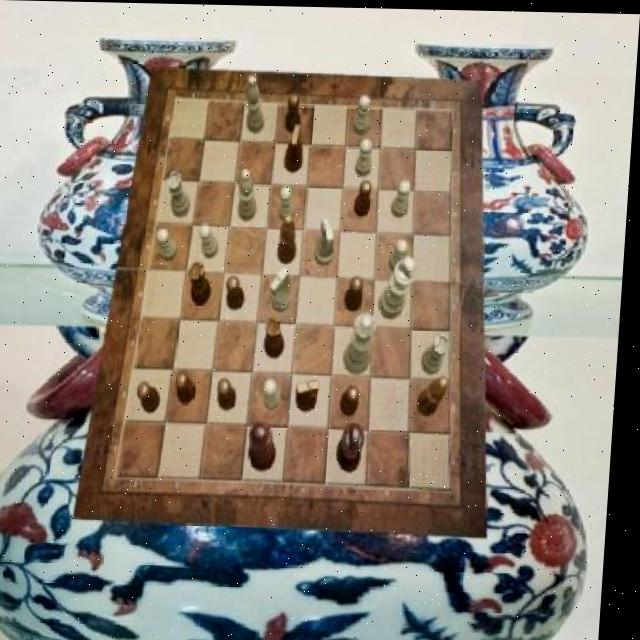bishop: (422, 372, 454, 415), (280, 213, 302, 264)
black-bishop: (342, 422, 371, 471)
black-king: (287, 124, 308, 172), (302, 376, 327, 411)
black-knight: (142, 381, 167, 413), (180, 371, 202, 405), (357, 177, 376, 215), (286, 93, 304, 133), (229, 274, 249, 308), (349, 274, 368, 309), (222, 378, 242, 411), (346, 383, 365, 415)
black-pawn: (254, 418, 285, 470)
black-queen: (190, 261, 217, 305), (269, 316, 291, 358)
black-rook: (246, 74, 269, 133), (240, 169, 261, 222)
white-bishop: (382, 253, 422, 318)
white-king: (272, 265, 297, 311), (317, 218, 340, 266)
white-knight: (159, 228, 183, 262), (355, 94, 374, 134), (202, 223, 224, 257), (394, 178, 413, 216), (357, 137, 375, 175), (392, 238, 412, 272), (281, 185, 299, 221), (268, 377, 287, 408)
white-pawn: (348, 311, 382, 374)
white-queen: (169, 171, 196, 217), (425, 332, 454, 373)
